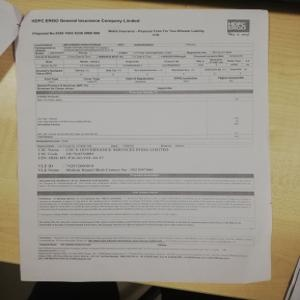image: (227, 18, 251, 32)
table: (34, 92, 252, 144), (33, 41, 252, 89)
text: (37, 195, 255, 261), (37, 143, 184, 173), (28, 15, 142, 28)
